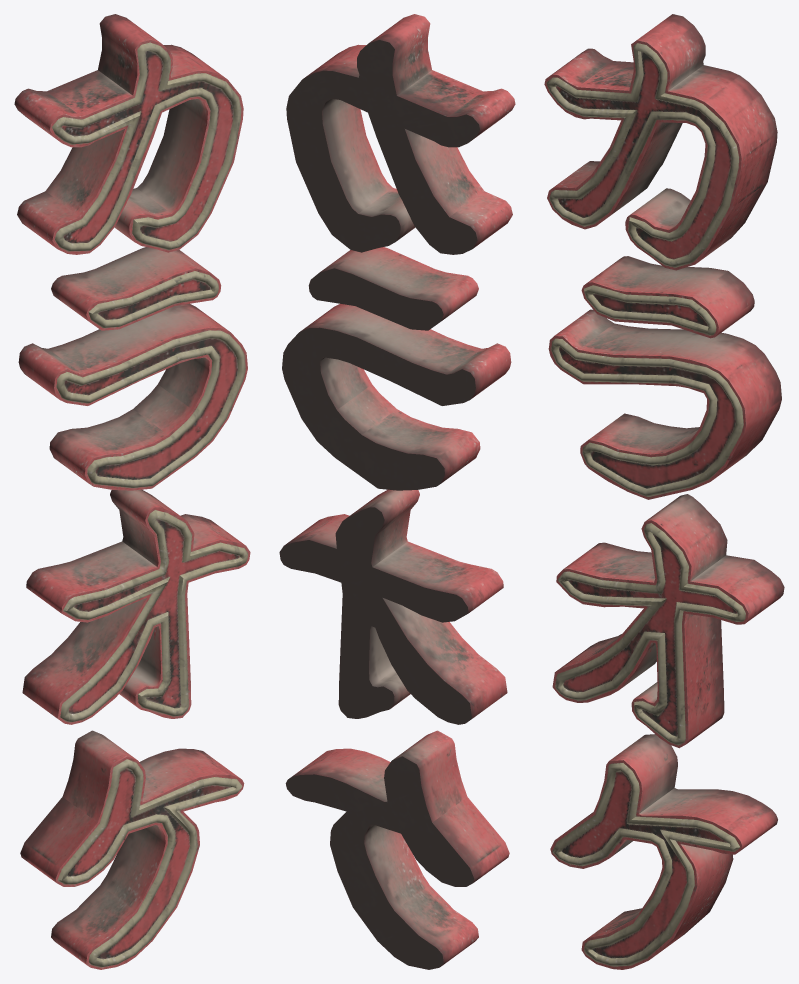
Rendered from sign_text_karaoke.fbx.
3 views of the same model, side by side, from view 1: azimuth 30°, elevation 25°; view 2: azimuth 150°, elevation 25°; view 3: azimuth 330°, elevation 25° (orthographic).
Parts seen in each view (by area): view 1: sign_text_karaoke; view 2: sign_text_karaoke; view 3: sign_text_karaoke.
Boxes of the visible parts, x1,y1,x2,y2 form: sign_text_karaoke: (14,14,250,969); sign_text_karaoke: (279,14,515,969); sign_text_karaoke: (544,14,784,969).
Size of the model in its own units: 72.34 by 316 by 23.19.
Materials: 1 (1 with a texture image).
